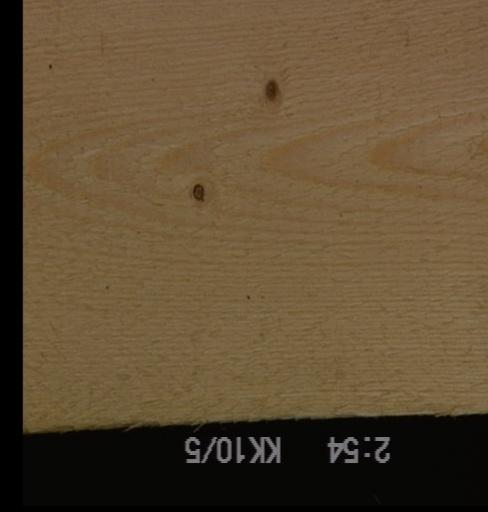dry_knot: (262, 78, 279, 103), (190, 182, 204, 202)
